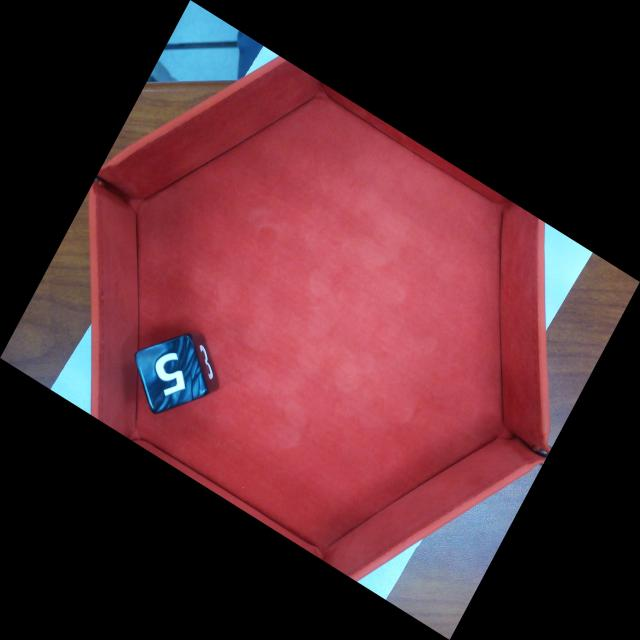dice: (135, 333, 209, 414)
